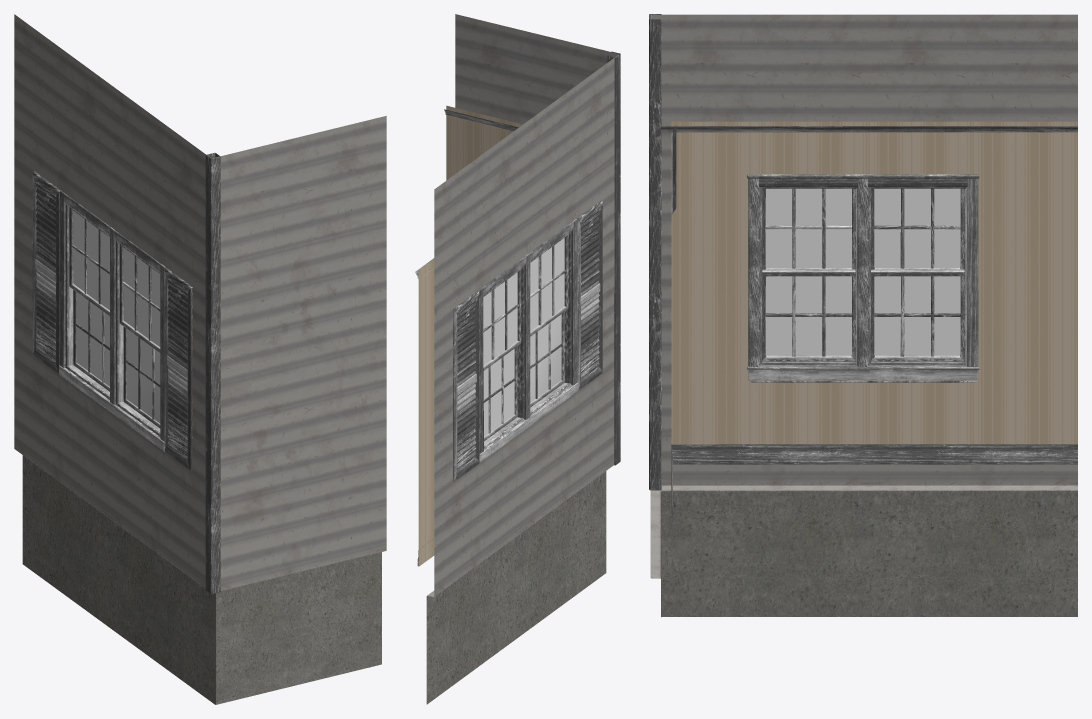
File: SM_Corner_1Floor_A3_Sym@VertexColors_0.fbx
The picture shows the model from 3 angles, left to right: view 1: azimuth 30°, elevation 25°; view 2: azimuth 150°, elevation 25°; view 3: azimuth 270°, elevation 25°; orthographic projection. The views are drawn at different scales.
Visible parts, largest first — view 1: SM_Corner_1Floor_A3_Sym_LOD0; view 2: SM_Corner_1Floor_A3_Sym_LOD0; view 3: SM_Corner_1Floor_A3_Sym_LOD0.
Boxes of the visible parts, <box> form: SM_Corner_1Floor_A3_Sym_LOD0: <box>14,14,386,704</box>; SM_Corner_1Floor_A3_Sym_LOD0: <box>415,14,620,704</box>; SM_Corner_1Floor_A3_Sym_LOD0: <box>649,14,1077,617</box>.
Size of the model in its own units: 149 by 288 by 443.
Materials: 8 (7 with a texture image).
